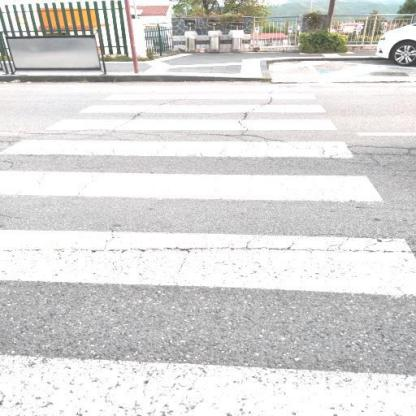crosswalk: (1, 221, 415, 415), (0, 115, 359, 166)
